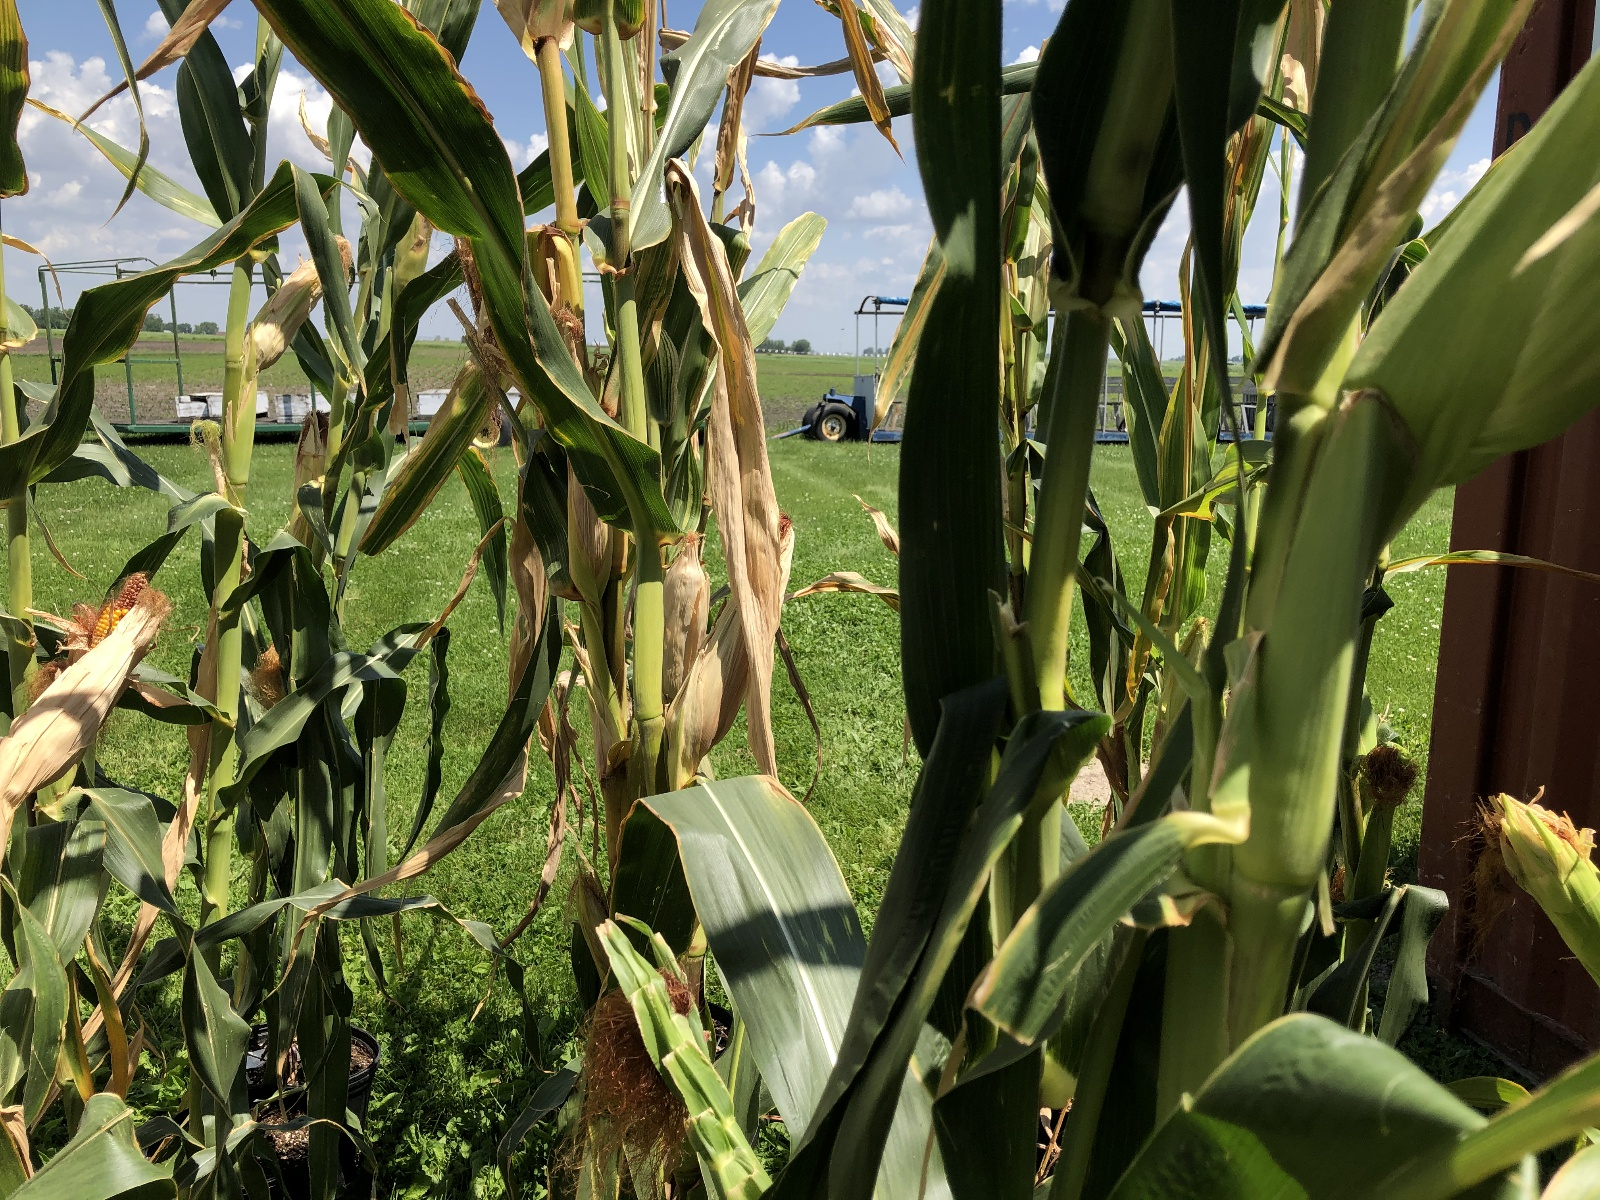ear: (663, 511, 803, 775), (4, 591, 173, 793), (1477, 782, 1600, 968), (247, 234, 355, 366), (656, 529, 713, 700), (89, 557, 152, 640)
